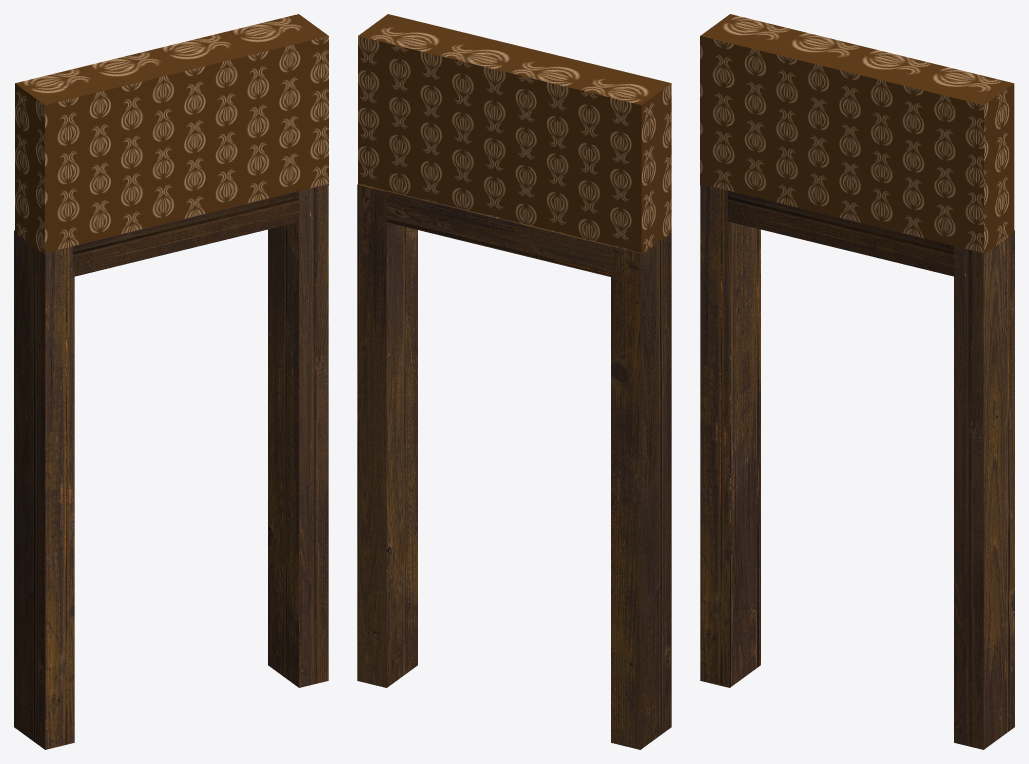
File: Office with Door Hole.fbx
The picture shows the model from 3 angles, left to right: view 1: azimuth 30°, elevation 25°; view 2: azimuth 150°, elevation 25°; view 3: azimuth 330°, elevation 25°; orthographic projection.
Parts seen in each view (by area): view 1: pCube16; view 2: pCube16; view 3: pCube16.
Boxes of the visible parts, x1,y1,x2,y2 form: pCube16: [14, 14, 328, 749]; pCube16: [357, 14, 671, 749]; pCube16: [700, 14, 1014, 749].
Size of the model in its own units: 22.49 by 48.78 by 4.27.
2 materials, 2 textured.
